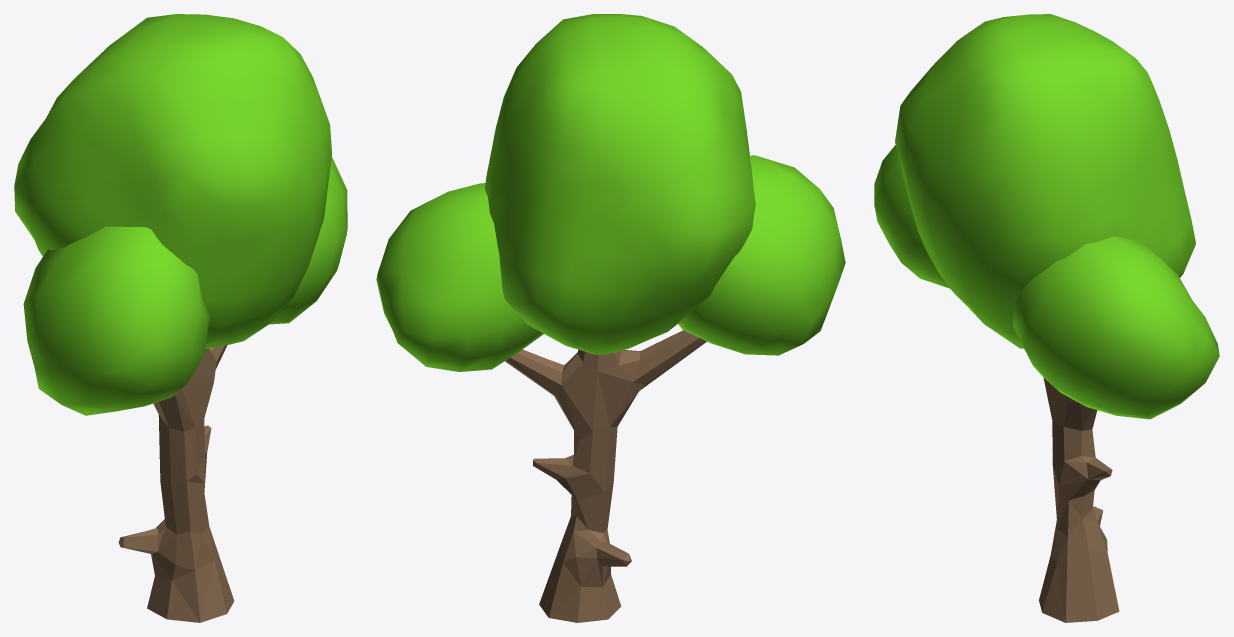
Rendered from Tree10.fbx.
The picture shows the model from 3 angles, left to right: view 1: azimuth 30°, elevation 25°; view 2: azimuth 150°, elevation 25°; view 3: azimuth 270°, elevation 25°; orthographic projection. The views are drawn at different scales.
Parts seen in each view (by area): view 1: Tree_10.001, Tree_10; view 2: Tree_10.001, Tree_10; view 3: Tree_10.001, Tree_10.
Boxes of the visible parts, <box> form: Tree_10.001: <box>14,14,347,415</box>; Tree_10: <box>118,345,234,622</box>; Tree_10.001: <box>376,14,845,371</box>; Tree_10: <box>505,330,706,622</box>; Tree_10.001: <box>874,14,1219,419</box>; Tree_10: <box>1039,377,1119,622</box>.
Size of the model in its own units: 337 by 509 by 280.
